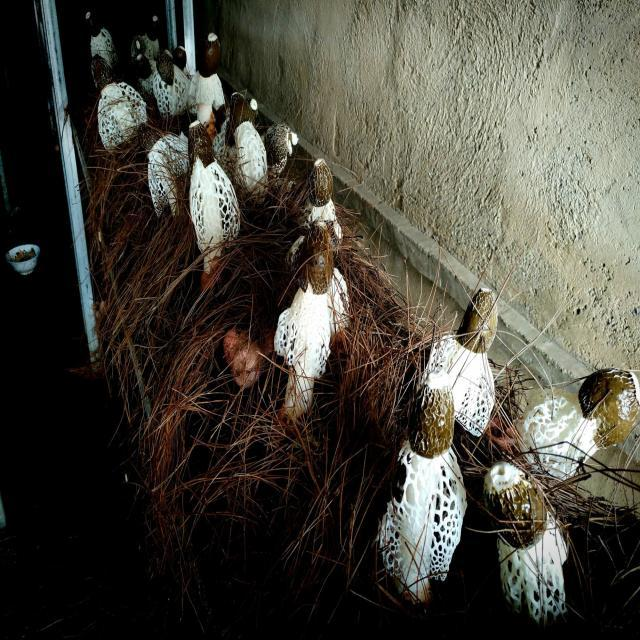Dictyophora indusiate: (380, 383, 468, 589), (523, 368, 640, 483), (272, 244, 350, 412), (494, 467, 570, 615), (427, 286, 498, 433), (189, 130, 244, 262), (94, 50, 144, 146), (150, 114, 194, 209), (307, 157, 345, 239), (156, 43, 197, 117), (229, 100, 262, 186)
